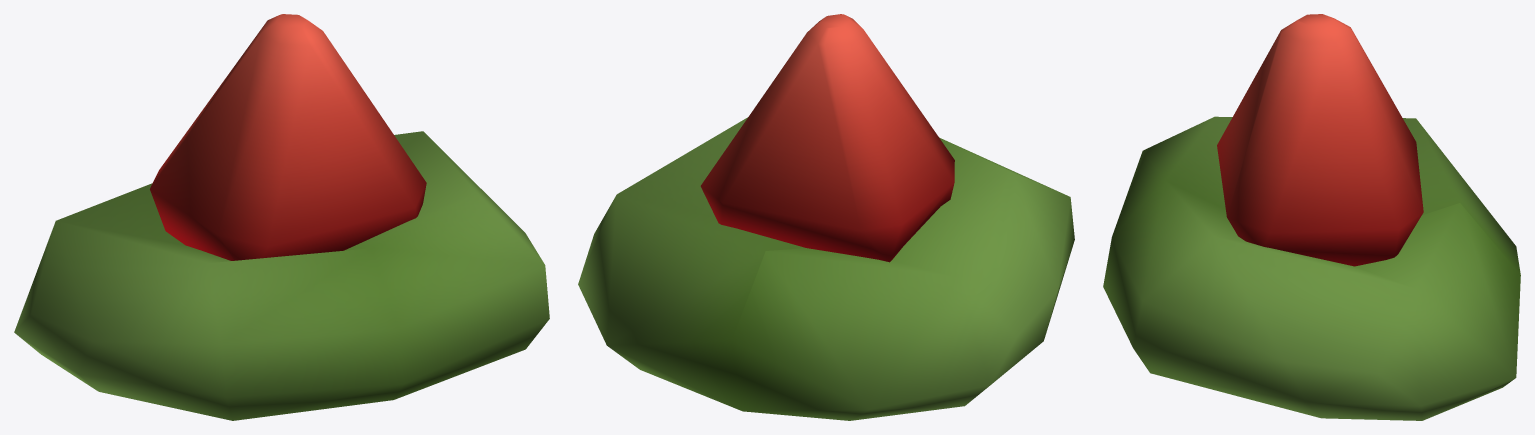
File: Sweets_MatchaMochi.gltf
The picture shows the model from 3 angles, left to right: view 1: azimuth 30°, elevation 25°; view 2: azimuth 150°, elevation 25°; view 3: azimuth 270°, elevation 25°; orthographic projection. The views are drawn at different scales.
Parts seen in each view (by area): view 1: Sweets_MatchaMochi; view 2: Sweets_MatchaMochi; view 3: Sweets_MatchaMochi.
Part boxes in pixels (box(x1,y1,x2,y2)): Sweets_MatchaMochi: box(14, 14, 549, 420); Sweets_MatchaMochi: box(578, 14, 1074, 420); Sweets_MatchaMochi: box(1103, 14, 1520, 420).
Bounding box in the file's own units: 0.2426 × 0.1791 × 0.2025.
Materials: 1 (1 with a texture image).
